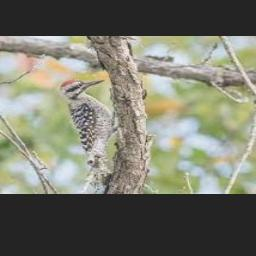Woodpecker: (60, 79, 117, 194)
